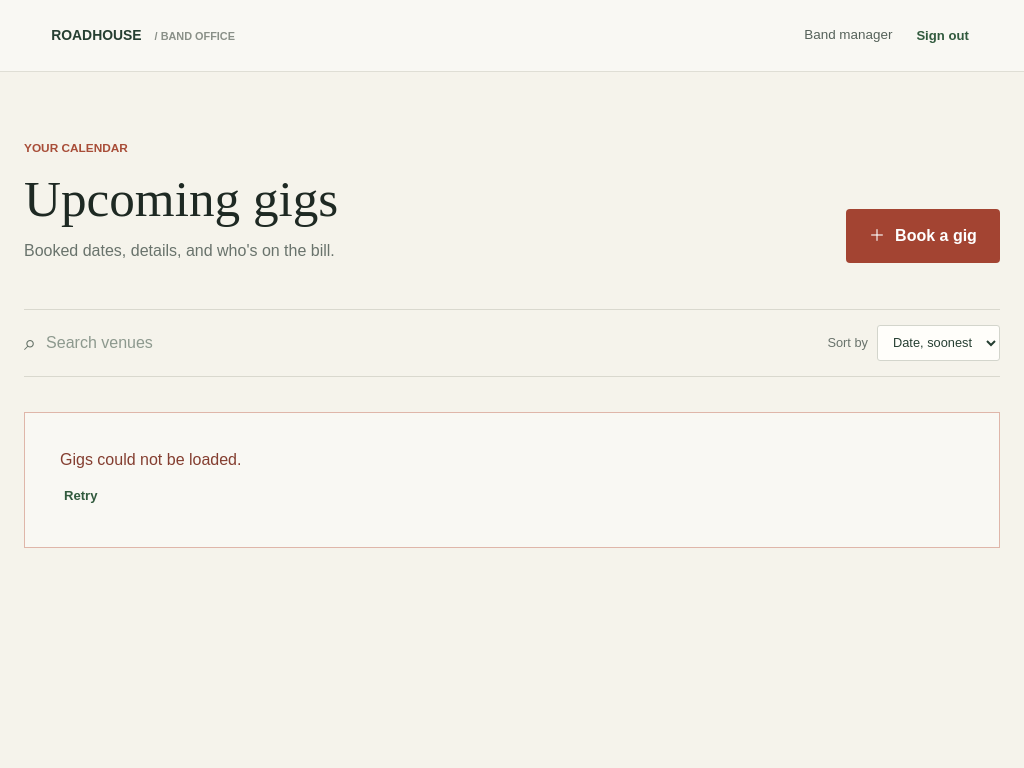
Test: gigs page › retries a failed gig list request
Expected: the message "Gigs could not be loaded. Retry" is shown, left=24, top=412, right=1000, bottom=548
What coordinates should you click on to do the following:
click the button "Retry"
I would click on:
 (81, 496)
Its box is left=60, top=480, right=102, bottom=512.
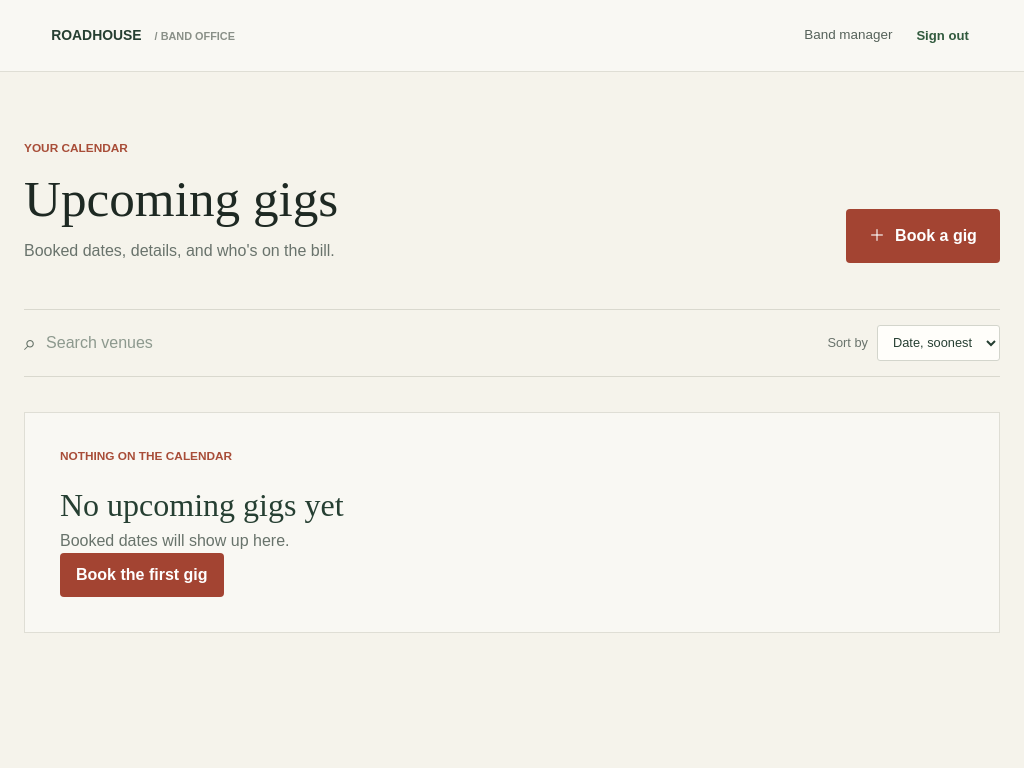
Expected: the heading "No upcoming gigs yet" is shown, left=60, top=487, right=344, bottom=523
